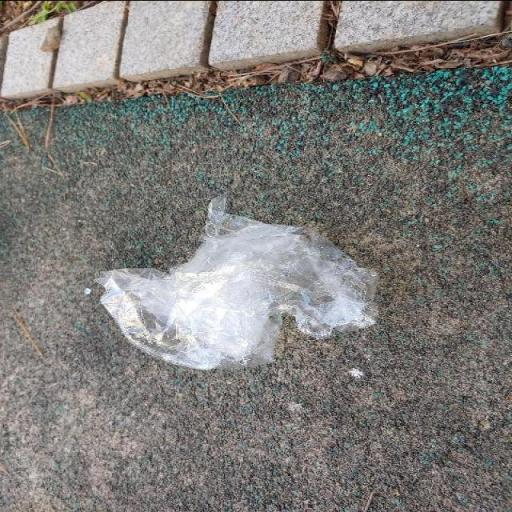plastic-bag: (89, 190, 383, 372)
